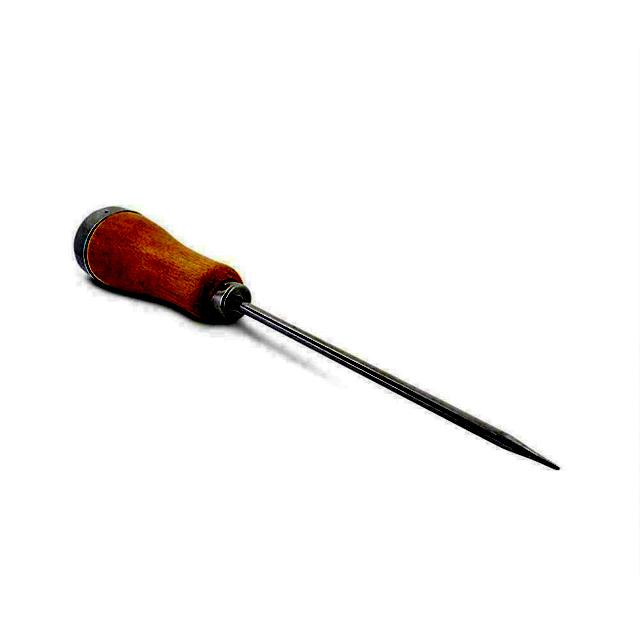ice pick: (72, 204, 562, 472)
